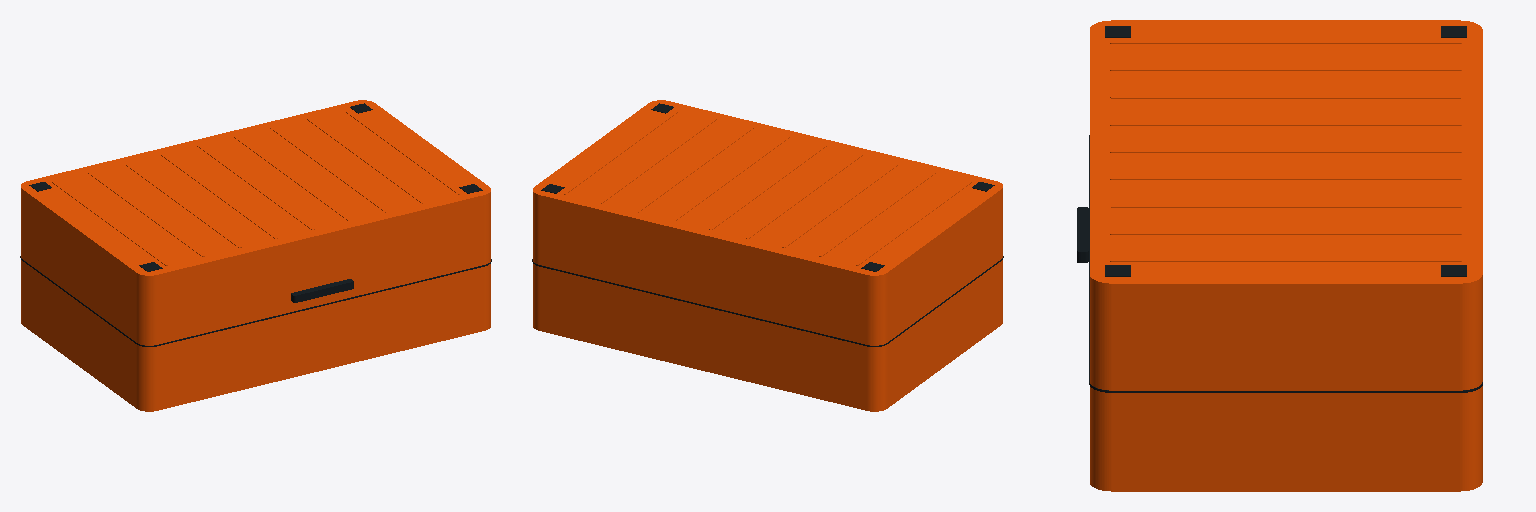
robot.urdf — test_bag_32kg:
<?xml version='1.0' encoding='utf-8'?>
<robot name="test_bag_32kg">
  <link name="bag">
    <inertial>
      <origin xyz="0 0 0.14" rpy="0 0 0" />
      <mass value="32" />
      <inertia ixx="0.8234666666666667" iyy="1.7493333333333334" izz="2.154666666666667" ixy="0" ixz="0" iyz="0" />
    </inertial>
    <visual name="orange_bag_shell">
      <geometry>
        <mesh filename="package://bellybot_dock_stack_description/meshes/orange_bag_shell.stl" scale="0.001 0.001 0.001" />
      </geometry>
      <material name="orange">
        <color rgba="0.96 0.39 0.06 1" />
      </material>
    </visual>
    <visual name="bag_shell_ribs">
      <geometry>
        <mesh filename="package://bellybot_dock_stack_description/meshes/bag_shell_ribs.stl" scale="0.001 0.001 0.001" />
      </geometry>
      <material name="orange">
        <color rgba="0.96 0.39 0.06 1" />
      </material>
    </visual>
    <visual name="bag_seam">
      <geometry>
        <mesh filename="package://bellybot_dock_stack_description/meshes/bag_seam.stl" scale="0.001 0.001 0.001" />
      </geometry>
      <material name="dark">
        <color rgba="0.12 0.15 0.17 1" />
      </material>
    </visual>
    <visual name="bag_handle">
      <geometry>
        <mesh filename="package://bellybot_dock_stack_description/meshes/bag_handle.stl" scale="0.001 0.001 0.001" />
      </geometry>
      <material name="dark">
        <color rgba="0.12 0.15 0.17 1" />
      </material>
    </visual>
    <visual name="bag_corner_-345.0_-205.0">
      <geometry>
        <mesh filename="package://bellybot_dock_stack_description/meshes/bag_corner_-345.0_-205.0.stl" scale="0.001 0.001 0.001" />
      </geometry>
      <material name="dark">
        <color rgba="0.12 0.15 0.17 1" />
      </material>
    </visual>
    <visual name="bag_corner_-345.0_205.0">
      <geometry>
        <mesh filename="package://bellybot_dock_stack_description/meshes/bag_corner_-345.0_205.0.stl" scale="0.001 0.001 0.001" />
      </geometry>
      <material name="dark">
        <color rgba="0.12 0.15 0.17 1" />
      </material>
    </visual>
    <visual name="bag_corner_345.0_-205.0">
      <geometry>
        <mesh filename="package://bellybot_dock_stack_description/meshes/bag_corner_345.0_-205.0.stl" scale="0.001 0.001 0.001" />
      </geometry>
      <material name="dark">
        <color rgba="0.12 0.15 0.17 1" />
      </material>
    </visual>
    <visual name="bag_corner_345.0_205.0">
      <geometry>
        <mesh filename="package://bellybot_dock_stack_description/meshes/bag_corner_345.0_205.0.stl" scale="0.001 0.001 0.001" />
      </geometry>
      <material name="dark">
        <color rgba="0.12 0.15 0.17 1" />
      </material>
    </visual>
    <collision>
      <origin xyz="0 0 0.14" rpy="0 0 0" />
      <geometry>
        <box size="0.76 0.48 0.28" />
      </geometry>
    </collision>
  </link>
</robot>

--- Render facts (derived) ---
The picture shows the robot from 3 angles, left to right: view 1: azimuth 30°, elevation 25°; view 2: azimuth 150°, elevation 25°; view 3: azimuth 270°, elevation 25°; orthographic projection.
Robot: test_bag_32kg — 1 links, 0 joints (none); root link bag; default pose: all joints at 0.
Links seen in each view (by area): view 1: bag; view 2: bag; view 3: bag.
Boxes of the visible links, x1,y1,x2,y2 form: bag: (20, 100, 491, 411); bag: (532, 100, 1003, 411); bag: (1077, 20, 1482, 491).
Size in the robot's own frame: 0.761 by 0.496 by 0.2812 metres.
Meshes: 8 distinct files referenced, 8 mesh visuals loaded (8 binary STL).
